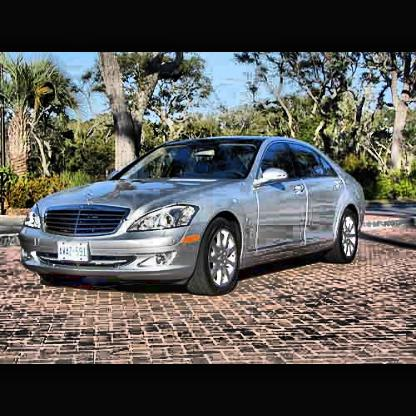Mercedes-Benz S-Class Sedan 2012: (18, 135, 368, 298)
